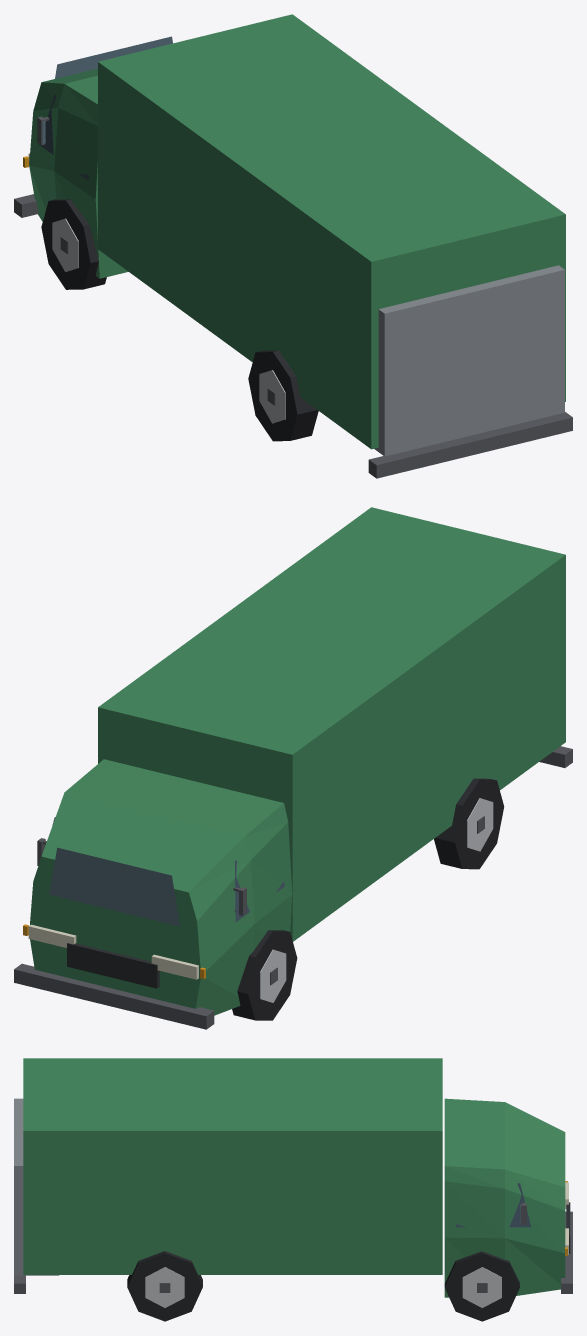
File: garbage.glb
3 views of the same model, one above another, from view 1: azimuth 30°, elevation 25°; view 2: azimuth 150°, elevation 25°; view 3: azimuth 270°, elevation 25° (orthographic). The views are drawn at different scales.
Visible parts, largest first — view 1: Body, Wheel_RL, Wheel_FL; view 2: Body, Wheel_RL, Wheel_FL; view 3: Body, Wheel_RR, Wheel_FR.
Boxes of the visible parts, x1,y1,x2,y2 form: Body: [14, 14, 572, 478]; Wheel_RL: [248, 350, 318, 441]; Wheel_FL: [41, 199, 106, 289]; Body: [14, 507, 572, 1029]; Wheel_RL: [434, 778, 504, 869]; Wheel_FL: [232, 930, 297, 1020]; Body: [14, 1058, 572, 1297]; Wheel_RR: [127, 1251, 202, 1321]; Wheel_FR: [444, 1251, 519, 1321].
Size of the model in its own units: 2.46 by 2.75 by 7.4.
